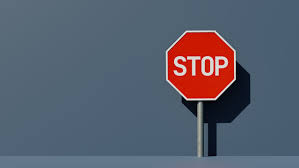stop sign: (164, 30, 237, 101)
